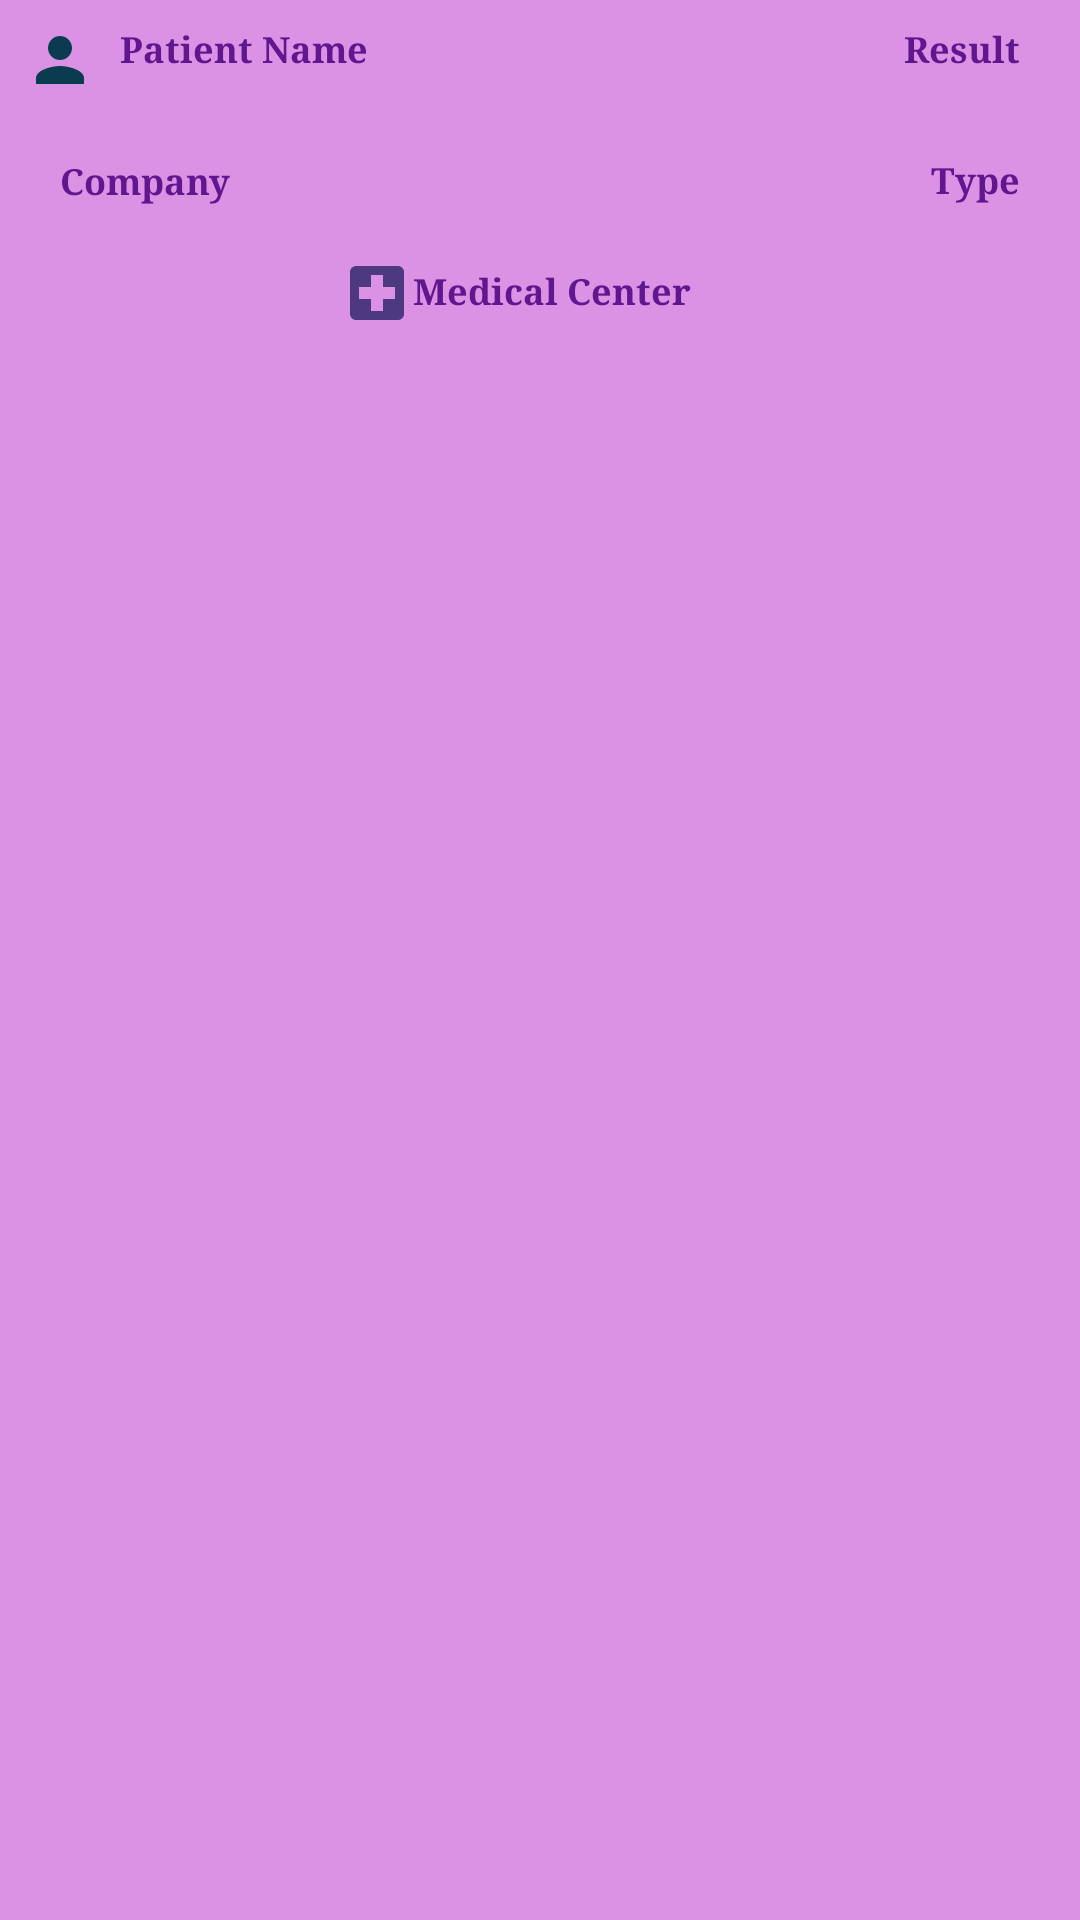

Screen size 1080w x 1920h. Icon name, then its center in pixels as point (x, y):
local hospital: point (377, 293)
person: point (60, 60)
